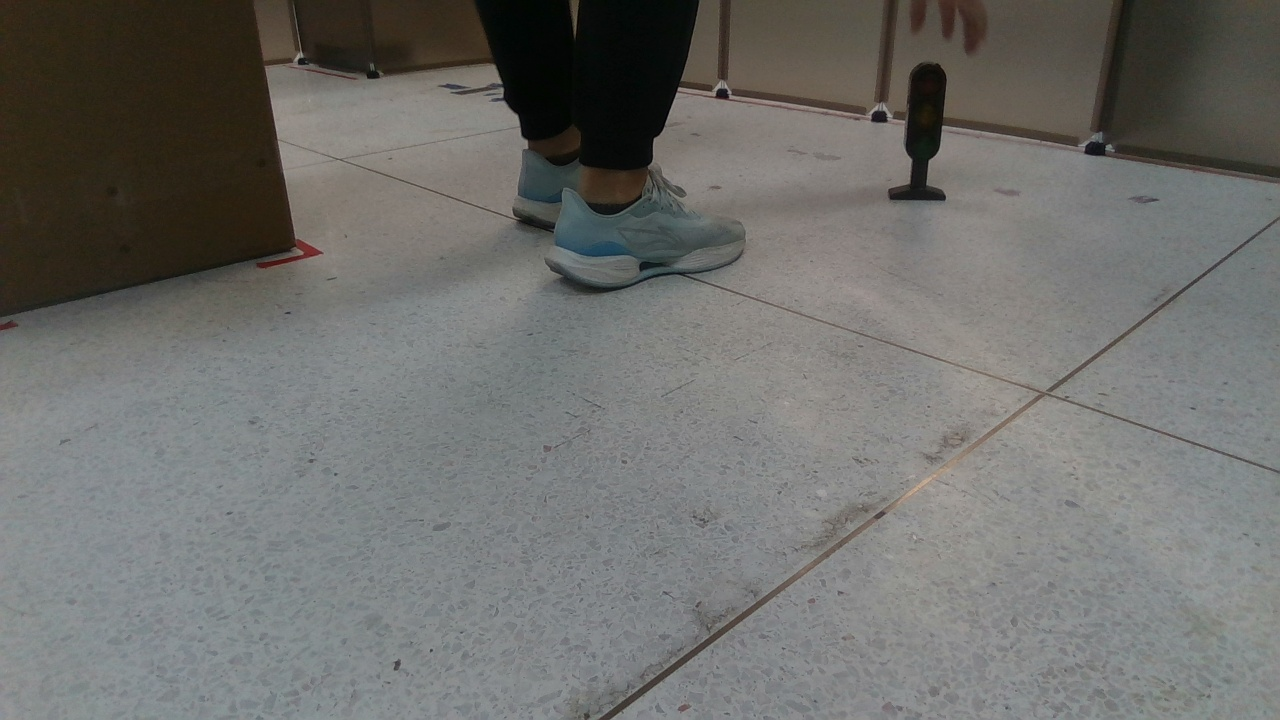Dim traffic light: (883, 60, 954, 207)
